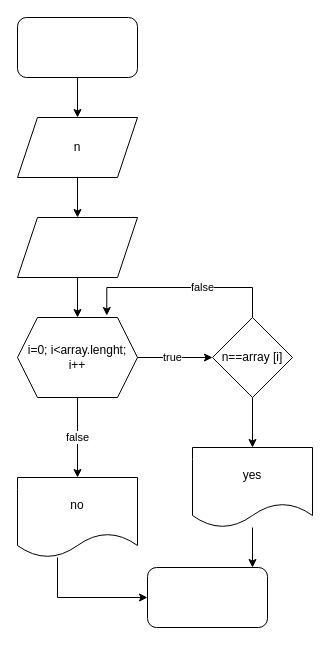
Some shapes in this 330 by 645 pixel diagram are drawn without their labels. The shapes that lost their labels are listed below. From the top down, each one's box as (x1, y1, x2, y2) in pixels, then its label:
(16, 16, 138, 78): start
(16, 216, 138, 278): array
(146, 566, 268, 628): end
